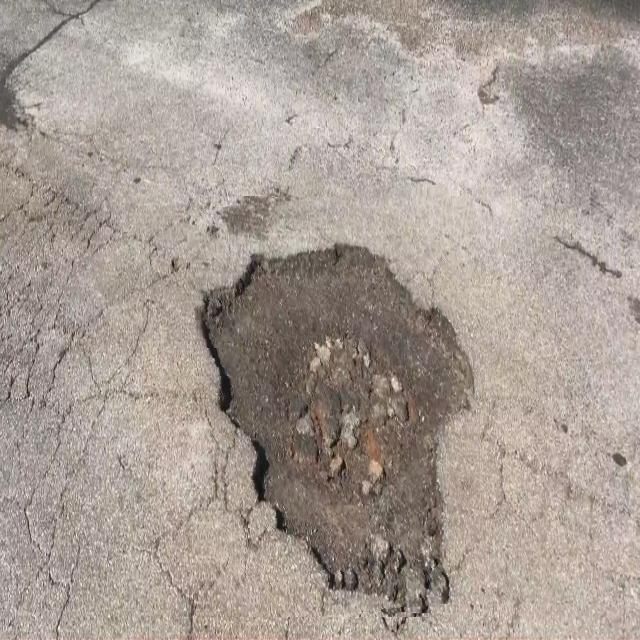Pothole: (195, 190, 480, 617)
